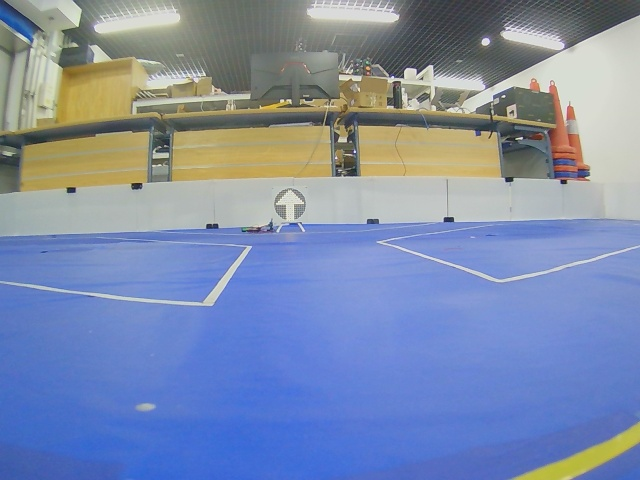straight_yellow: (275, 188, 306, 222)
